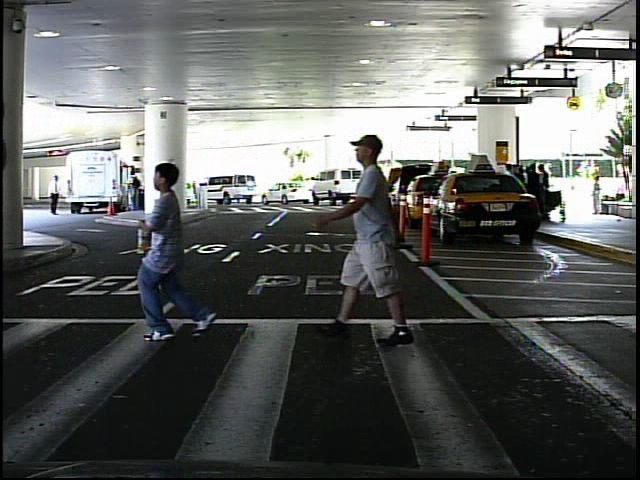person: (137, 156, 247, 355), (328, 126, 423, 349), (588, 172, 607, 218), (47, 171, 65, 218)
